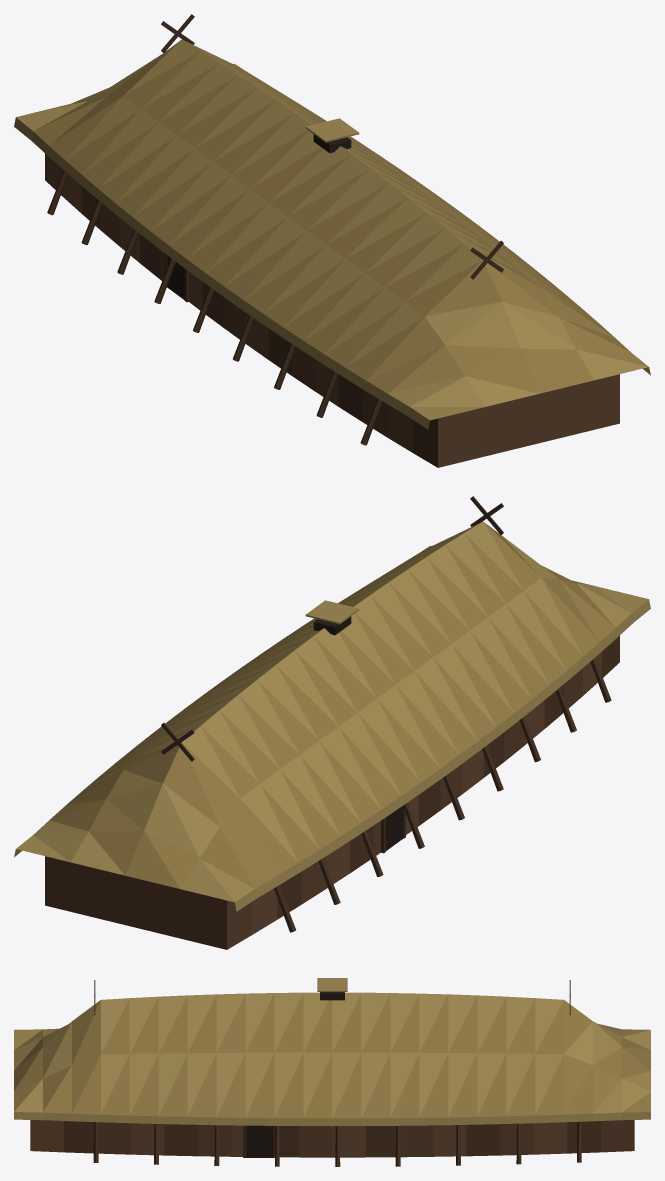
Rendered from b1_langhus.glb.
The picture shows the model from 3 angles, top to bottom: view 1: azimuth 30°, elevation 25°; view 2: azimuth 150°, elevation 25°; view 3: azimuth 270°, elevation 25°; orthographic projection. The views are drawn at different scales.
Parts seen in each view (by area): view 1: B1_langhus_stort; view 2: B1_langhus_stort; view 3: B1_langhus_stort.
Part boxes in pixels (x1,y1,x2,y2): B1_langhus_stort: (14,14,650,467); B1_langhus_stort: (14,496,650,949); B1_langhus_stort: (14,978,650,1166).
Size of the model in its own units: 8.77 by 5.36 by 23.2.
